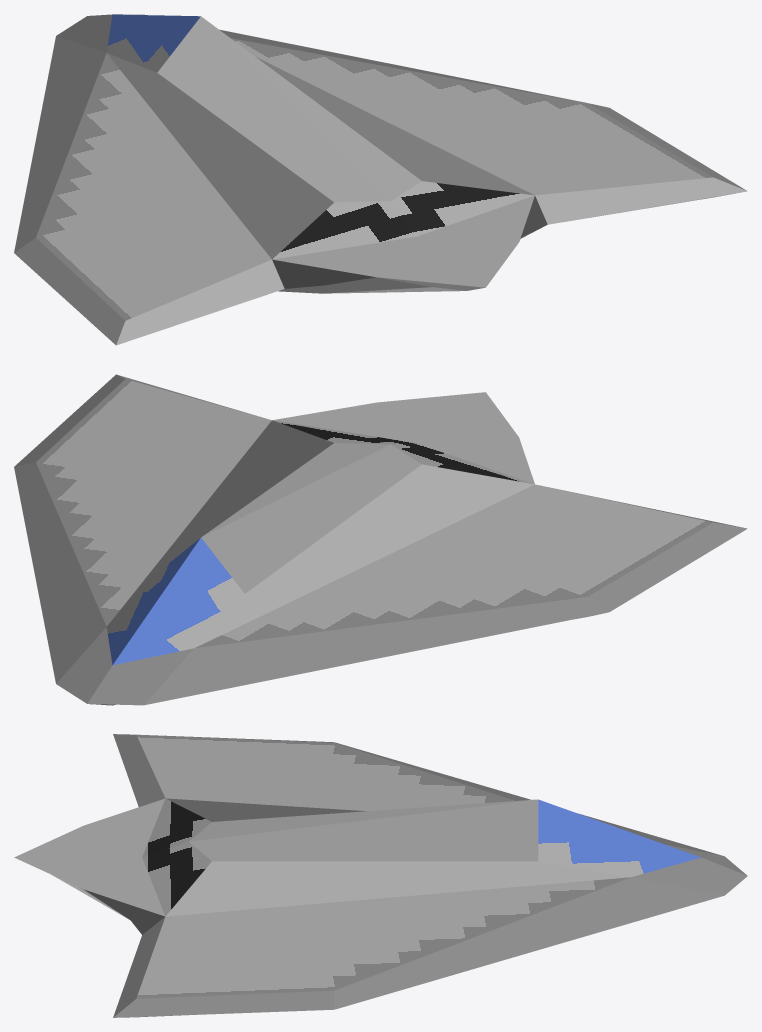
The model's file is dropship3.gltf.
3 renders of one model, top to bottom at view 1: azimuth 30°, elevation 25°; view 2: azimuth 150°, elevation 25°; view 3: azimuth 270°, elevation 25°, orthographic. The views are drawn at different scales.
Parts seen in each view (by area): view 1: cuboid; view 2: cuboid; view 3: cuboid.
Boxes of the visible parts, x1=… form: cuboid: x1=14, y1=14, x2=747, y2=345; cuboid: x1=14, y1=374, x2=747, y2=705; cuboid: x1=14, y1=734, x2=747, y2=1017.
Bounding box in the file's own units: 1.8 × 0.3125 × 1.97.
Materials: 1 (1 with a texture image).
